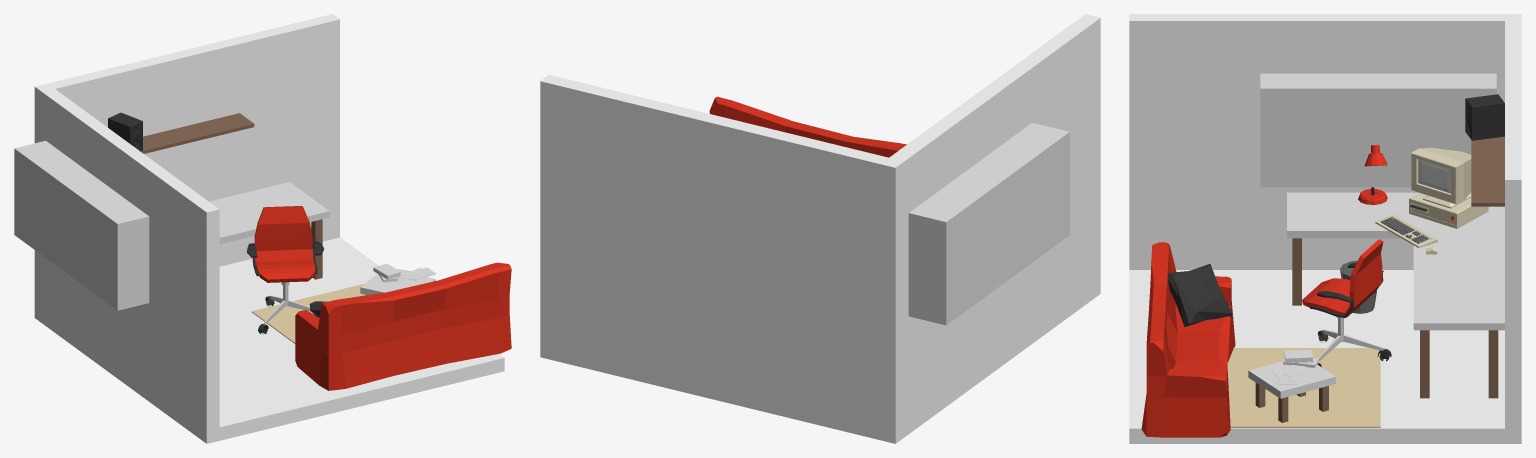
The model's file is scifiRoom.fbx.
3 renders of one model, left to right at view 1: azimuth 30°, elevation 25°; view 2: azimuth 150°, elevation 25°; view 3: azimuth 270°, elevation 25°, orthographic. The views are drawn at different scales.
Parts seen in each view (by area): view 1: Plane, Sofa, Cube, Plane.003, Table.002, Shelf, Plane.012, Table.003, Plane.078; view 2: Plane, Cube, Sofa; view 3: Plane, Cube, Sofa, Plane.012, Table.002, Table.001, Plane.004, Cube.001, Plane.003, Shelf, Table.003, Plane.078 (+10 smaller).
Part boxes in pixels (x1,y1,x2,y2): Plane: (34,14,504,443); Sofa: (295,262,511,390); Cube: (14,140,149,310); Plane.003: (254,206,315,282); Table.002: (209,182,329,243); Shelf: (141,113,254,153); Plane.012: (251,283,365,343); Table.003: (360,273,435,294); Plane.078: (108,112,142,143); Plane: (540,14,1100,443); Cube: (908,122,1069,325); Sofa: (709,96,906,157); Plane: (1129,14,1521,443); Cube: (1260,73,1496,187); Sofa: (1141,242,1235,437); Plane.012: (1227,348,1380,427); Table.002: (1413,231,1504,330); Table.001: (1287,192,1504,238); Plane.004: (1411,147,1471,208); Cube.001: (1168,263,1232,326); Plane.003: (1302,239,1383,317); Shelf: (1471,136,1504,206); Table.003: (1248,361,1335,398); Plane.078: (1466,94,1504,140).
Size of the model in its own units: 970 by 621 by 836.
